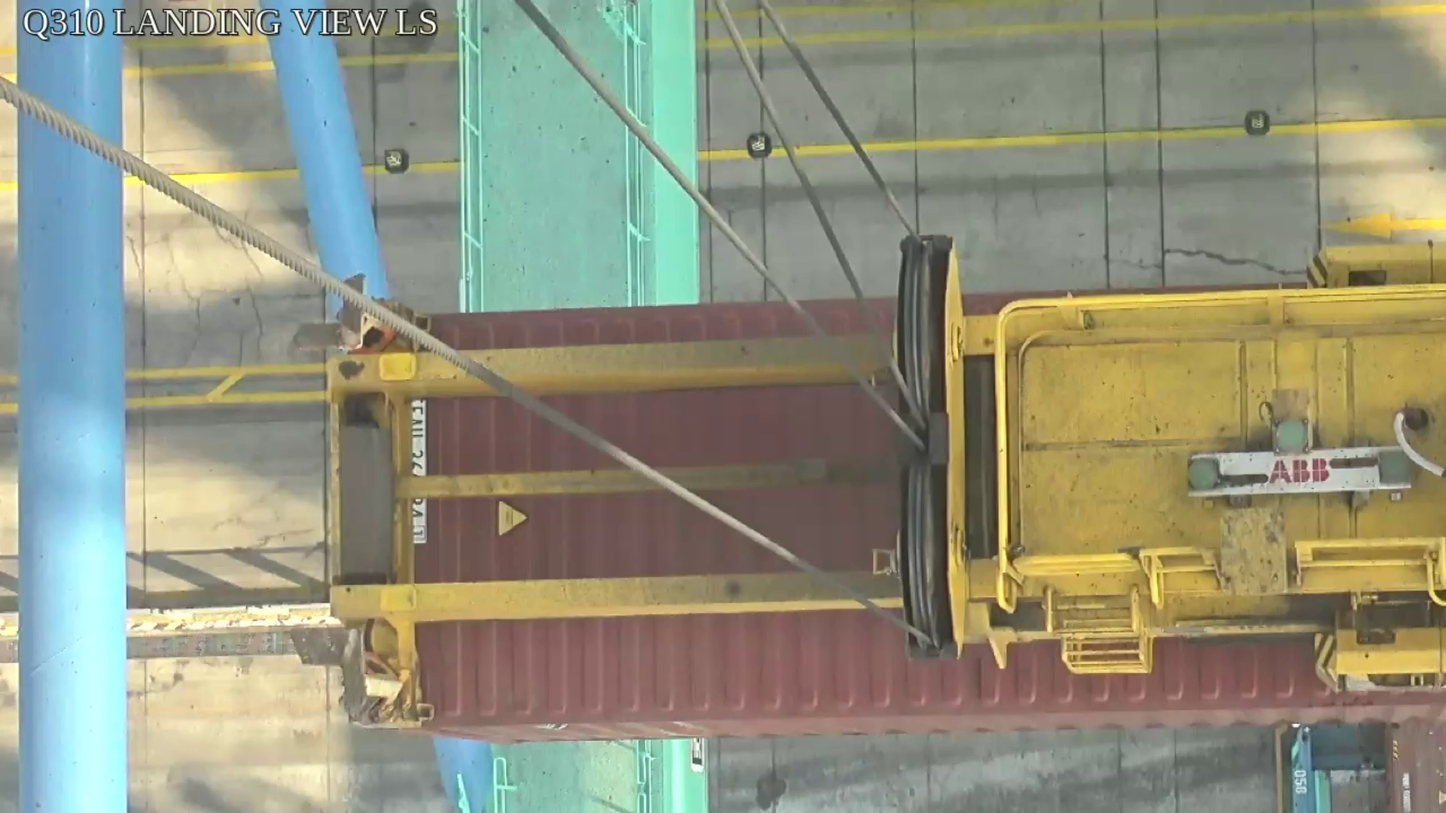aa: (893, 235, 969, 656)
